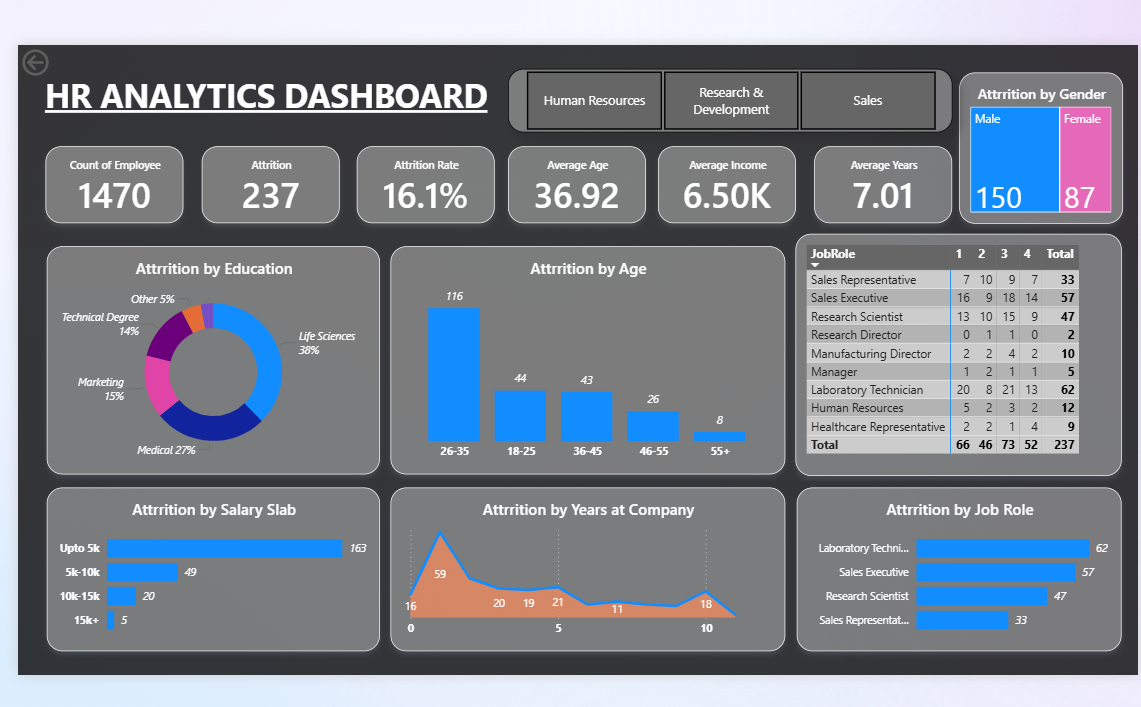

What the dashboard file says about the page in this screenshot:
{"tool":"powerbi","page":{"name":"Page 1","canvas":[1280,720],"ordinal":0},"visuals":[{"type":"card","title":"Count of Employee","fields":{"Values":["CountNonNull(HR_Analytics.EmployeeCount)"]},"box":[30.7,115.9,157.8,88],"z":0},{"type":"card","title":"Attrition ","fields":{"Values":["Sum(HR_Analytics.AttrritionCount)"]},"box":[209.4,115.9,157.8,88],"z":1000},{"type":"actionButton","box":[0,0,100,40],"z":2000},{"type":"card","title":"Attrition Rate","fields":{"Values":["HR_Analytics.AttritionRate"]},"box":[386.7,115.9,157.8,88],"z":3000},{"type":"card","title":"Average Age","fields":{"Values":["Avg(HR_Analytics.Age)"]},"box":[559.9,115.9,157.8,88],"z":4000},{"type":"card","title":"Average Income","fields":{"Values":["Avg(HR_Analytics.MonthlyIncome)"]},"box":[731.6,115.9,157.8,88],"z":5000},{"type":"card","title":"Average Years","fields":{"Values":["Avg(HR_Analytics.YearsAtCompany)"]},"box":[910.3,115.9,157.8,88],"z":6000},{"type":"donutChart","title":"Attrrition by Education","fields":{"Category":["HR_Analytics.EducationField"],"Y":["Sum(HR_Analytics.AttrritionCount)"]},"box":[33.5,230.4,381.2,261.1],"z":7000},{"type":"columnChart","title":"Attrrition by Age","fields":{"Category":["HR_Analytics.AgeGroup"],"Y":["Sum(HR_Analytics.AttrritionCount)"]},"box":[425.8,230.4,451,261.1],"z":8000},{"type":"pivotTable","fields":{"Rows":["HR_Analytics.JobRole"],"Columns":["HR_Analytics.JobSatisfaction"],"Values":["Sum(HR_Analytics.AttrritionCount)"]},"box":[888,215,372.8,276.4],"z":9000},{"type":"barChart","title":"Attrrition by Salary Slab","fields":{"Category":["HR_Analytics.SalarySlab"],"Y":["Sum(HR_Analytics.AttrritionCount)"]},"box":[33.5,505.4,381.2,187.1],"z":10000},{"type":"barChart","title":"Attrrition by Job Role","fields":{"Category":["HR_Analytics.JobRole"],"Y":["Sum(HR_Analytics.AttrritionCount)"]},"box":[889.4,505.4,371.4,187.1],"z":11000},{"type":"stackedAreaChart","title":"Attrrition by Years at Company","fields":{"Category":["HR_Analytics.YearsAtCompany"],"Y":["Sum(HR_Analytics.AttrritionCount)"]},"box":[425.8,505.4,451,187.1],"z":12000},{"type":"treemap","title":"Attrrition by Gender","fields":{"Group":["HR_Analytics.Gender"],"Values":["Sum(HR_Analytics.AttrritionCount)"]},"box":[1075,30.7,187.1,173.1],"z":13000},{"type":"slicer","fields":{"Values":["HR_Analytics.Department"]},"box":[559.9,26.5,508.2,72.6],"z":14000},{"type":"textbox","box":[25.1,26.5,526.4,68.4],"z":15000}]}

Visuals, with their boxes in screenshot pixels (x1, y1, x2, y2):
"Count of Employee" card: {"left": 13, "top": 123, "right": 157, "bottom": 204}
"Attrition " card: {"left": 176, "top": 123, "right": 320, "bottom": 204}
actionButton: {"left": 0, "top": 18, "right": 76, "bottom": 54}
"Attrition Rate" card: {"left": 338, "top": 123, "right": 481, "bottom": 204}
"Average Age" card: {"left": 495, "top": 123, "right": 639, "bottom": 204}
"Average Income" card: {"left": 652, "top": 123, "right": 796, "bottom": 204}
"Average Years" card: {"left": 815, "top": 123, "right": 959, "bottom": 204}
"Attrrition by Education" donutChart: {"left": 16, "top": 228, "right": 363, "bottom": 466}
"Attrrition by Age" columnChart: {"left": 373, "top": 228, "right": 784, "bottom": 466}
pivotTable - HR_Analytics.JobRole x HR_Analytics.JobSatisfaction: {"left": 794, "top": 214, "right": 1134, "bottom": 466}
"Attrrition by Salary Slab" barChart: {"left": 16, "top": 478, "right": 363, "bottom": 649}
"Attrrition by Job Role" barChart: {"left": 796, "top": 478, "right": 1134, "bottom": 649}
"Attrrition by Years at Company" stackedAreaChart: {"left": 373, "top": 478, "right": 784, "bottom": 649}
"Attrrition by Gender" treemap: {"left": 965, "top": 46, "right": 1135, "bottom": 204}
slicer - HR_Analytics.Department: {"left": 495, "top": 42, "right": 959, "bottom": 108}
textbox: {"left": 8, "top": 42, "right": 488, "bottom": 104}
